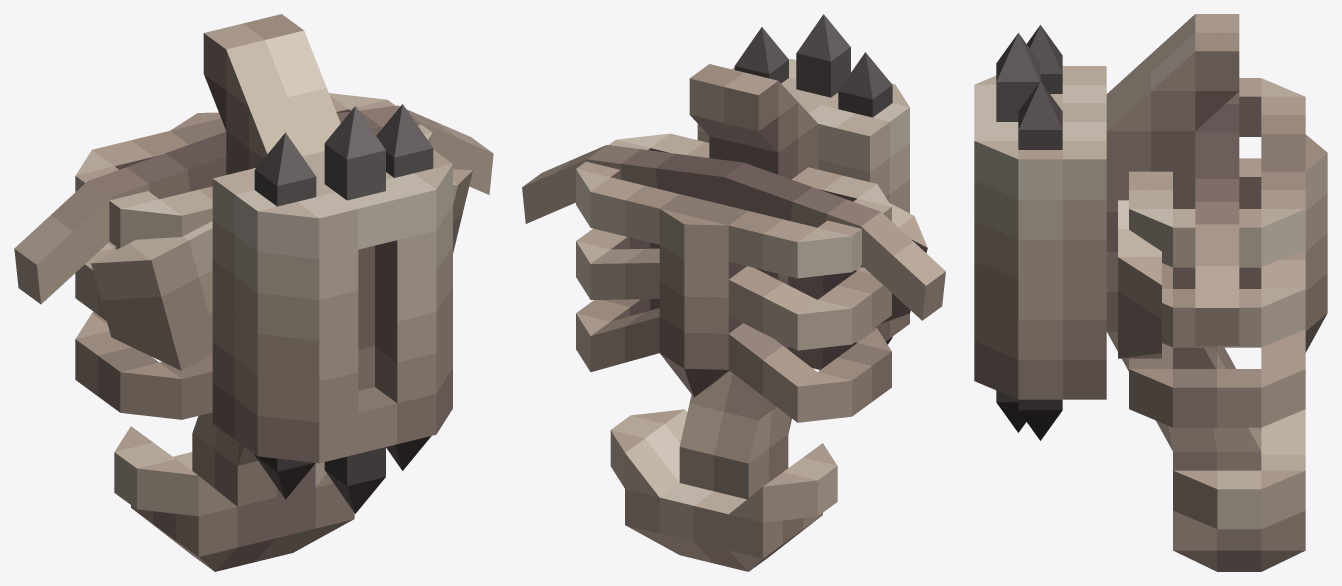
File: torso_tank.obj
The picture shows the model from 3 angles, left to right: view 1: azimuth 30°, elevation 25°; view 2: azimuth 150°, elevation 25°; view 3: azimuth 270°, elevation 25°; orthographic projection. The views are drawn at different scales.
Parts seen in each view (by area): view 1: TORSO_BONE_TANK_Cube.432; view 2: TORSO_BONE_TANK_Cube.432; view 3: TORSO_BONE_TANK_Cube.432.
Boxes of the visible parts, x1,y1,x2,y2 form: TORSO_BONE_TANK_Cube.432: (14, 14, 493, 571); TORSO_BONE_TANK_Cube.432: (522, 14, 945, 571); TORSO_BONE_TANK_Cube.432: (974, 14, 1327, 571).
Size of the model in its own units: 0.7319 by 0.8125 by 0.5.
